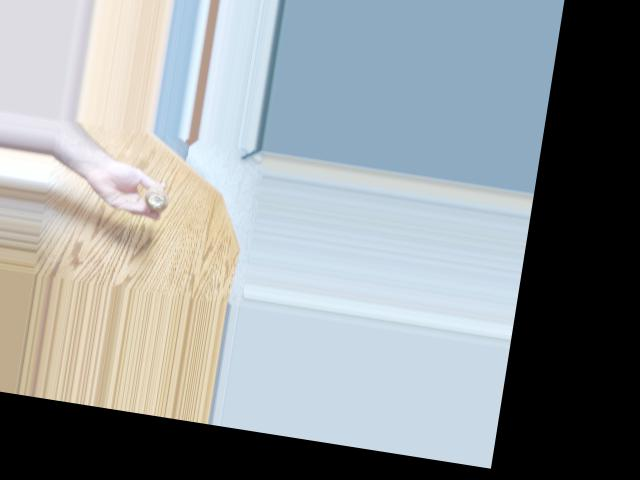sweet_potato: (143, 183, 176, 211)
